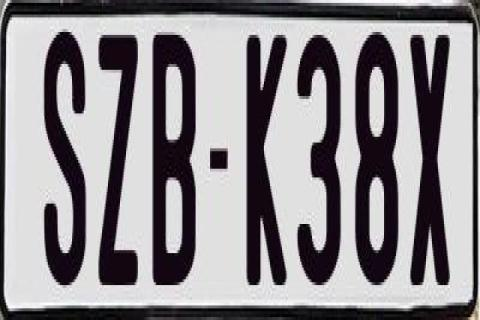0: (352, 23, 402, 276), (298, 26, 346, 276)
B: (152, 29, 198, 282)
K: (244, 26, 290, 282)
S: (42, 26, 90, 288)
X: (410, 26, 450, 276)
Z: (98, 26, 140, 282)
